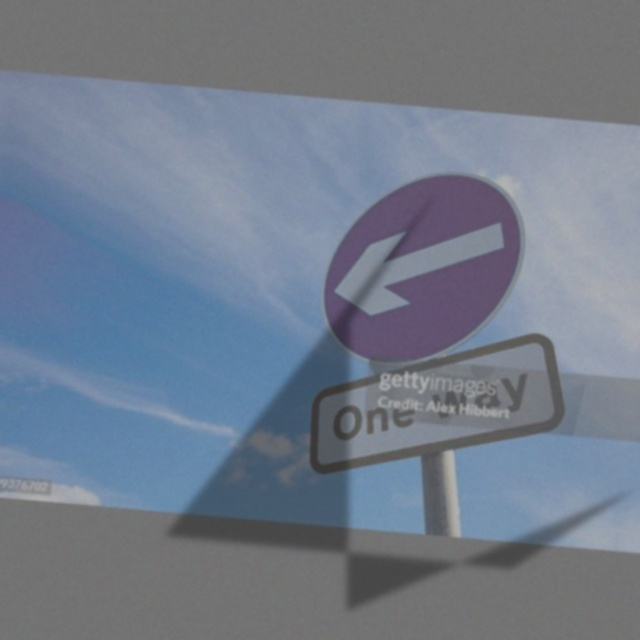Compulsory_Turn_Left: (307, 157, 529, 370)
